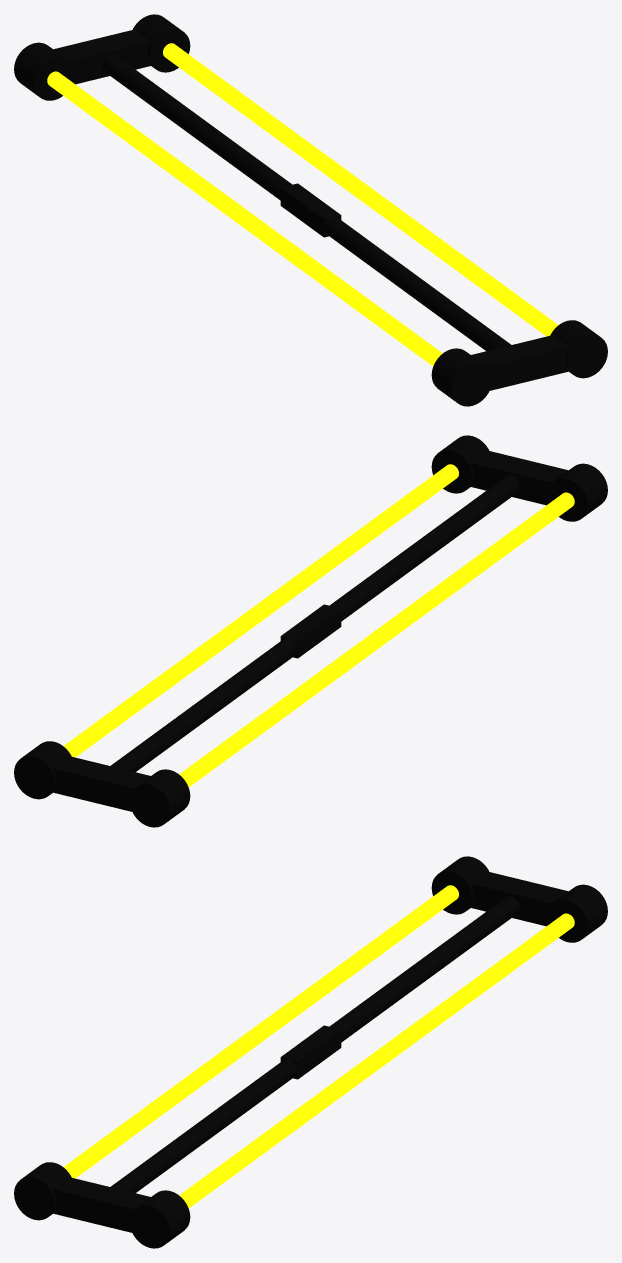
Rendered from F Light.gltf.
3 renders of one model, top to bottom at view 1: azimuth 30°, elevation 25°; view 2: azimuth 150°, elevation 25°; view 3: azimuth 330°, elevation 25°, orthographic.
Visible parts, largest first — view 1: Cylinder.004, Cylinder.006, Cylinder.005, Cube, Cube.001, Cylinder, Cylinder.002, Cylinder.001, Cylinder.003, Cube.002; view 2: Cylinder.004, Cylinder.006, Cylinder.005, Cube.001, Cube, Cylinder.002, Cylinder, Cylinder.003, Cylinder.001, Cube.002; view 3: Cylinder.004, Cylinder.005, Cylinder.006, Cube, Cube.001, Cylinder.001, Cylinder.003, Cylinder, Cylinder.002, Cube.002.
Part boxes in pixels (bbox=[...]): Cylinder.004: bbox=[102, 54, 510, 350]; Cylinder.006: bbox=[47, 71, 442, 366]; Cylinder.005: bbox=[163, 43, 558, 336]; Cube: bbox=[471, 335, 569, 390]; Cube.001: bbox=[53, 29, 151, 84]; Cylinder: bbox=[431, 348, 492, 406]; Cylinder.002: bbox=[14, 42, 74, 100]; Cylinder.001: bbox=[550, 320, 607, 378]; Cylinder.003: bbox=[132, 14, 190, 72]; Cube.002: bbox=[280, 183, 341, 237]; Cylinder.004: bbox=[111, 475, 519, 771]; Cylinder.006: bbox=[179, 492, 574, 787]; Cylinder.005: bbox=[63, 464, 458, 757]; Cube.001: bbox=[52, 756, 150, 811]; Cube: bbox=[470, 450, 568, 505]; Cylinder.002: bbox=[129, 769, 190, 827]; Cylinder: bbox=[547, 463, 607, 521]; Cylinder.003: bbox=[14, 741, 71, 799]; Cylinder.001: bbox=[431, 435, 489, 493]; Cube.002: bbox=[280, 604, 341, 658]; Cylinder.004: bbox=[111, 896, 519, 1192]; Cylinder.005: bbox=[179, 913, 574, 1208]; Cylinder.006: bbox=[63, 885, 458, 1178]; Cube: bbox=[52, 1177, 150, 1232]; Cube.001: bbox=[470, 871, 568, 926]; Cylinder.001: bbox=[129, 1190, 190, 1248]; Cylinder.003: bbox=[547, 884, 607, 942]; Cylinder: bbox=[14, 1162, 71, 1220]; Cylinder.002: bbox=[431, 856, 489, 914]; Cube.002: bbox=[280, 1025, 341, 1079].
Size of the model in its own units: 0.54 by 0.14 by 2.62.
